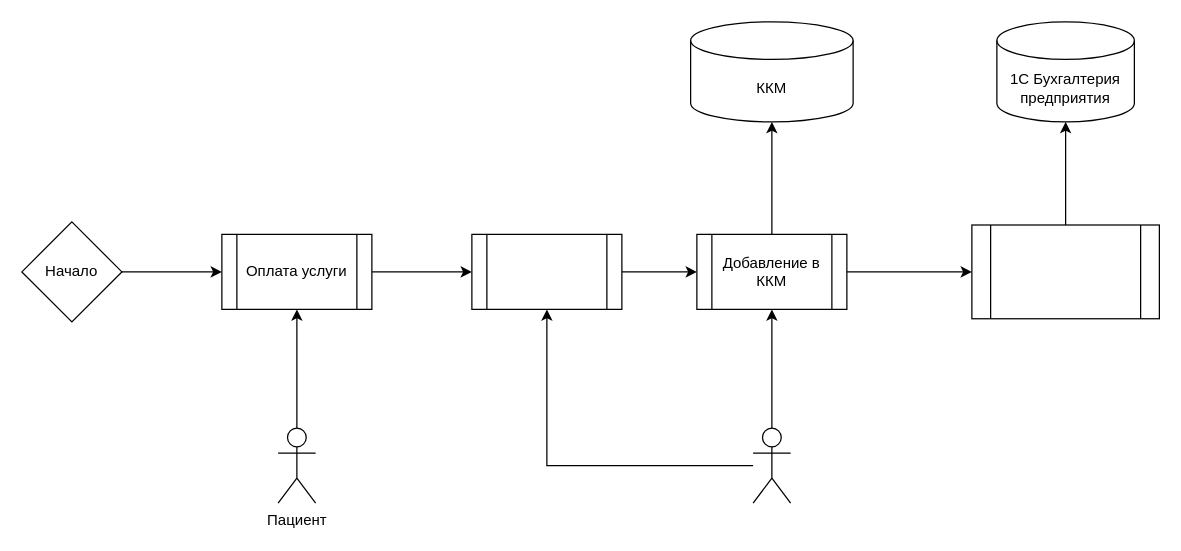
Some shapes in this 1181 by 551 pixel diagram are drawn without their labels. Each missing label, with the centre of its shape:
Добавление данных об оплате: [1065,271]
Кассир: [771,465]
Принятие оплаты: [546,271]
